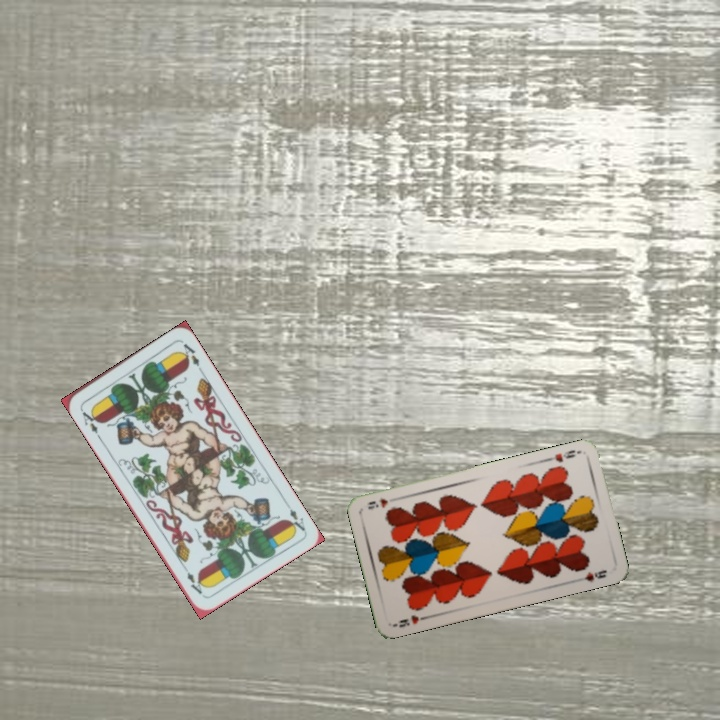EA: (76, 404, 103, 441), (281, 497, 308, 534)
H9: (395, 611, 430, 630), (544, 446, 578, 465)
